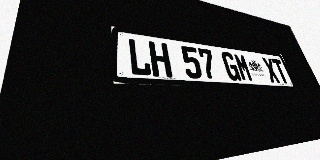5: (180, 46, 204, 79)
7: (196, 48, 219, 80)
G: (220, 51, 242, 81)
H: (148, 41, 173, 77)
L: (127, 38, 152, 76)
M: (233, 53, 254, 82)
T: (271, 58, 290, 83)
X: (261, 57, 281, 83)
